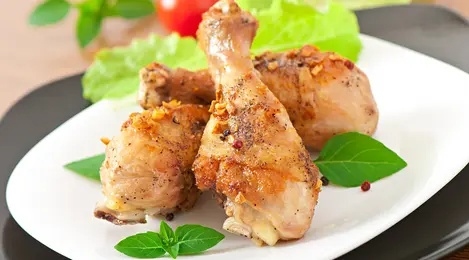ayam_goreng: (186, 1, 325, 247)
